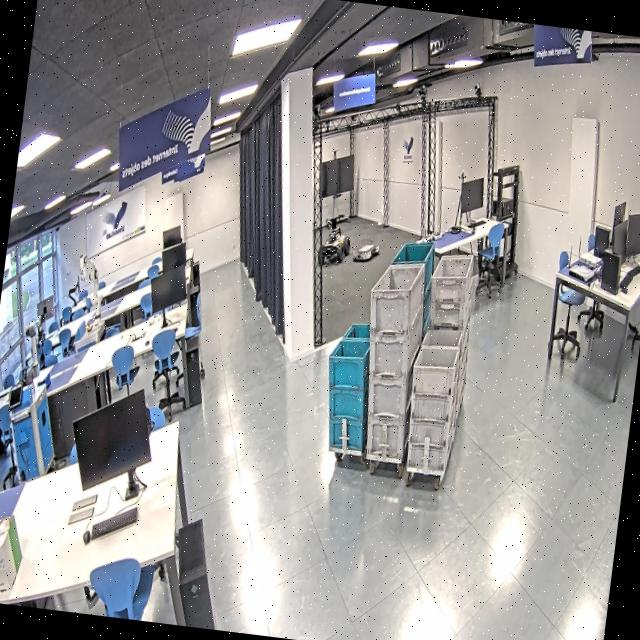Box3G: (412, 247, 482, 423)
Box4G: (350, 254, 436, 462)
Box8G: (400, 324, 468, 474)
BoxB4: (368, 235, 444, 439)
BoxB8: (317, 317, 384, 453)
